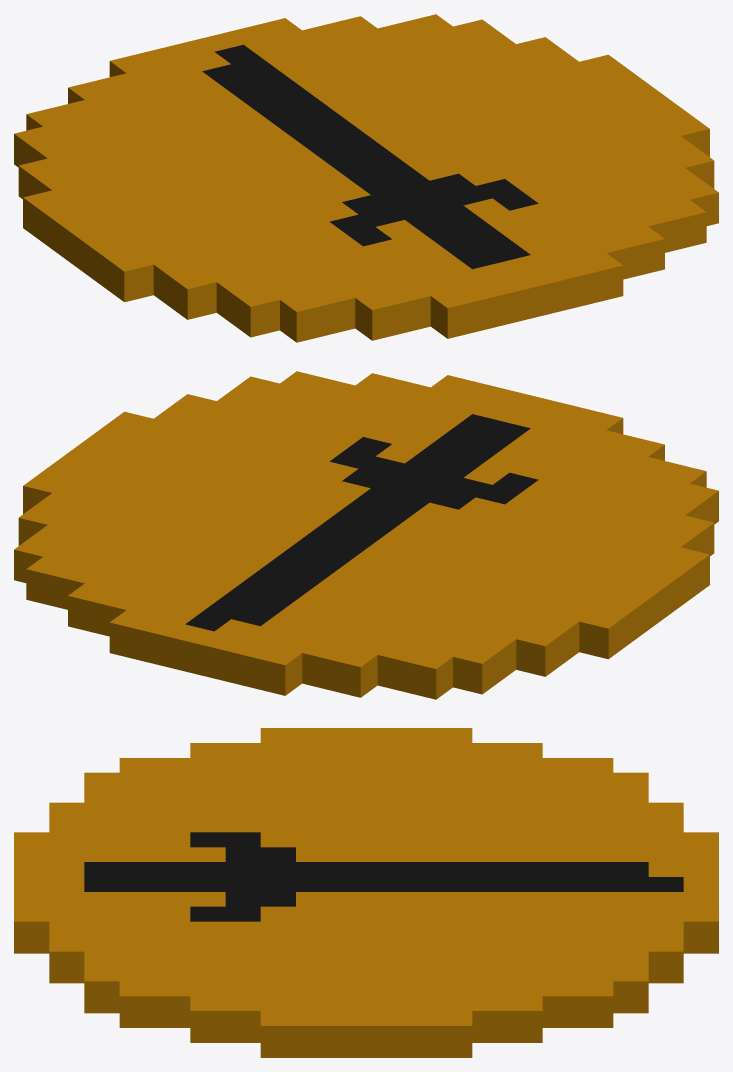
The model's file is combatSpace 1.obj.
3 renders of one model, top to bottom at view 1: azimuth 30°, elevation 25°; view 2: azimuth 150°, elevation 25°; view 3: azimuth 270°, elevation 25°, orthographic. The views are drawn at different scales.
Size of the model in its own units: 2 by 0.1 by 2.
